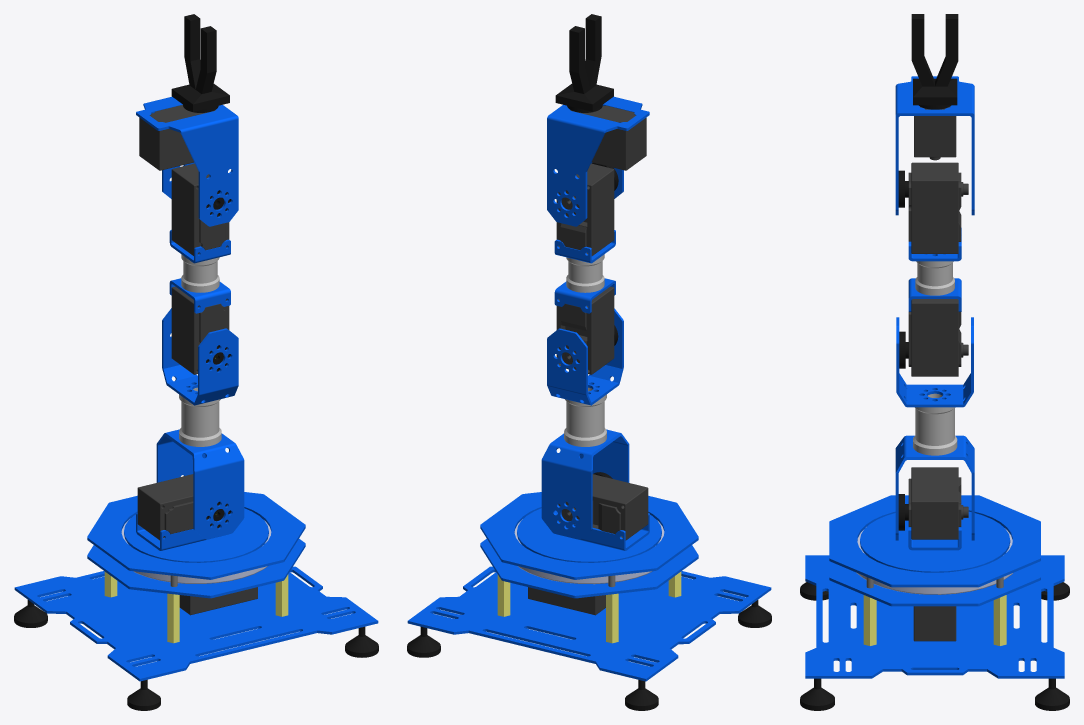
Rendered from xarm.obj.
3 views of the same model, side by side, from view 1: azimuth 30°, elevation 25°; view 2: azimuth 150°, elevation 25°; view 3: azimuth 270°, elevation 25° (orthographic). The views are drawn at different scales.
Visible parts, largest first — view 1: Base, Stator_Base, Servo_3_to_Servo_2, Servo_5_Plate, Rotating_Base, Servo_5_to_Servo_4_Plate, Circumference.002, Servo_3, Servo_5, Servo_4, Servo_2, Circumference.001 (+7 smaller); view 2: Base, Stator_Base, Servo_3_to_Servo_2, Servo_5_Plate, Rotating_Base, Servo_5_to_Servo_4_Plate, Circumference.002, Servo_3, Servo_5, Servo_4, Servo_2, Circumference.001 (+7 smaller); view 3: Base, Stator_Base, Rotating_Base, Servo_3, Servo_4, Servo_5, Circumference.002, Servo_3_to_Servo_2, Servo_5_to_Servo_4_Plate, Circumference.001, Arm_5_to_4, Servo_2 (+7 smaller).
Part boxes in pixels (left/top/right/bottom): Base: left=14, top=566, right=378, bottom=681; Stator_Base: left=87, top=492, right=305, bottom=598; Servo_3_to_Servo_2: left=136, top=96, right=238, bottom=226; Servo_5_Plate: left=156, top=429, right=244, bottom=539; Rotating_Base: left=124, top=508, right=268, bottom=562; Servo_5_to_Servo_4_Plate: left=162, top=308, right=238, bottom=405; Circumference.002: left=171, top=14, right=229, bottom=112; Servo_3: left=171, top=163, right=229, bottom=255; Servo_5: left=137, top=474, right=193, bottom=540; Servo_4: left=171, top=286, right=229, bottom=374; Servo_2: left=139, top=105, right=215, bottom=170; Circumference.001: left=14, top=600, right=378, bottom=710; Base: left=407, top=566, right=771, bottom=681; Stator_Base: left=480, top=492, right=698, bottom=598; Servo_3_to_Servo_2: left=547, top=96, right=649, bottom=226; Servo_5_Plate: left=541, top=429, right=629, bottom=539; Rotating_Base: left=517, top=508, right=661, bottom=562; Servo_5_to_Servo_4_Plate: left=547, top=308, right=623, bottom=405; Circumference.002: left=555, top=14, right=613, bottom=112; Servo_3: left=556, top=163, right=614, bottom=255; Servo_5: left=558, top=474, right=648, bottom=540; Servo_4: left=556, top=286, right=614, bottom=374; Servo_2: left=570, top=105, right=646, bottom=170; Circumference.001: left=407, top=600, right=771, bottom=710; Base: left=805, top=555, right=1064, bottom=678; Stator_Base: left=829, top=495, right=1040, bottom=606; Rotating_Base: left=860, top=495, right=1010, bottom=572; Servo_3: left=908, top=162, right=968, bottom=253; Servo_4: left=908, top=299, right=968, bottom=376; Servo_5: left=908, top=467, right=968, bottom=539; Circumference.002: left=911, top=14, right=958, bottom=109; Servo_3_to_Servo_2: left=895, top=76, right=974, bottom=215; Servo_5_to_Servo_4_Plate: left=896, top=317, right=973, bottom=407; Circumference.001: left=800, top=582, right=1069, bottom=710; Arm_5_to_4: left=913, top=393, right=957, bottom=455; Servo_2: left=914, top=106, right=956, bottom=160.
Bounding box in the file's own units: 159 × 377 × 145.
